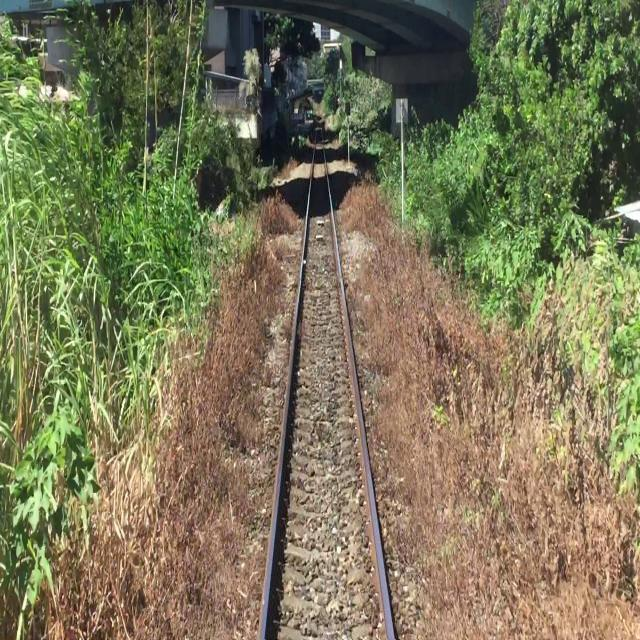rail: (214, 98, 440, 640)
